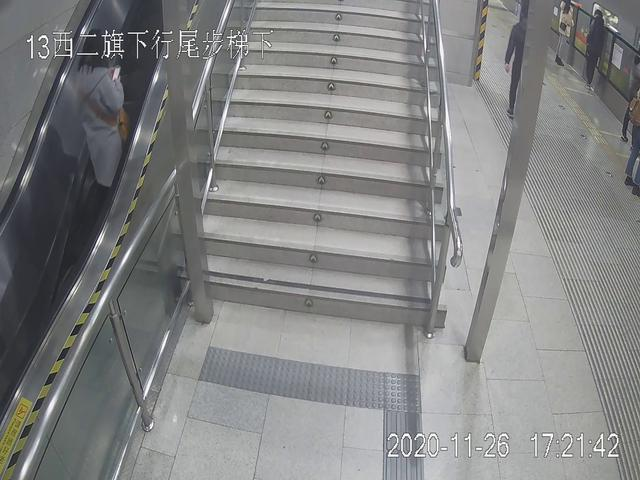person: (72, 25, 131, 191), (579, 6, 613, 87), (555, 1, 576, 71)
